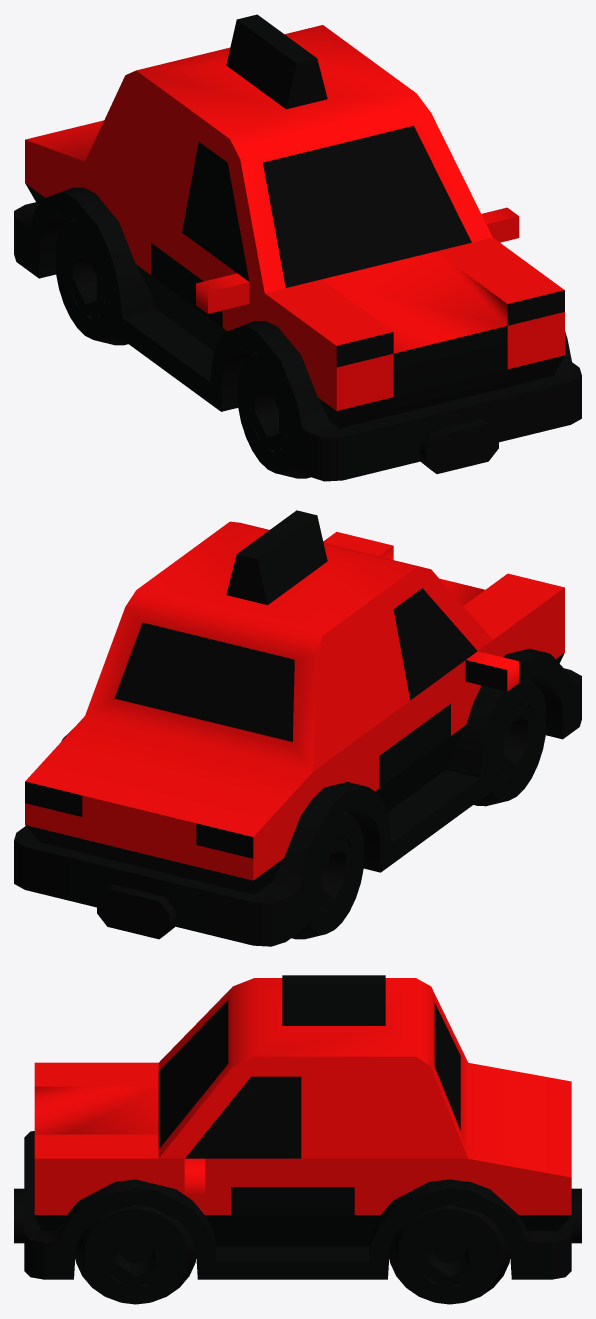
File: taxi.glb
3 renders of one model, top to bottom at view 1: azimuth 30°, elevation 25°; view 2: azimuth 150°, elevation 25°; view 3: azimuth 270°, elevation 25°, orthographic. The views are drawn at different scales.
Parts seen in each view (by area): view 1: body, wheel-back-right, wheel-front-right; view 2: body, wheel-back-right, wheel-front-right; view 3: body, wheel-front-left, wheel-back-left.
Part boxes in pixels (x1=…): body: x1=14, y1=14, x2=581, y2=481; wheel-back-right: x1=56, y1=217, x2=128, y2=345; wheel-front-right: x1=238, y1=351, x2=310, y2=478; body: x1=14, y1=510, x2=581, y2=946; wheel-back-right: x1=291, y1=812, x2=363, y2=939; wheel-front-right: x1=473, y1=678, x2=545, y2=806; body: x1=14, y1=975, x2=581, y2=1279; wheel-front-left: x1=75, y1=1205, x2=196, y2=1304; wheel-back-left: x1=389, y1=1205, x2=510, y2=1304.
Bounding box in the file's own units: 1.5 × 1.5 × 2.75.
1 material, 1 textured.
